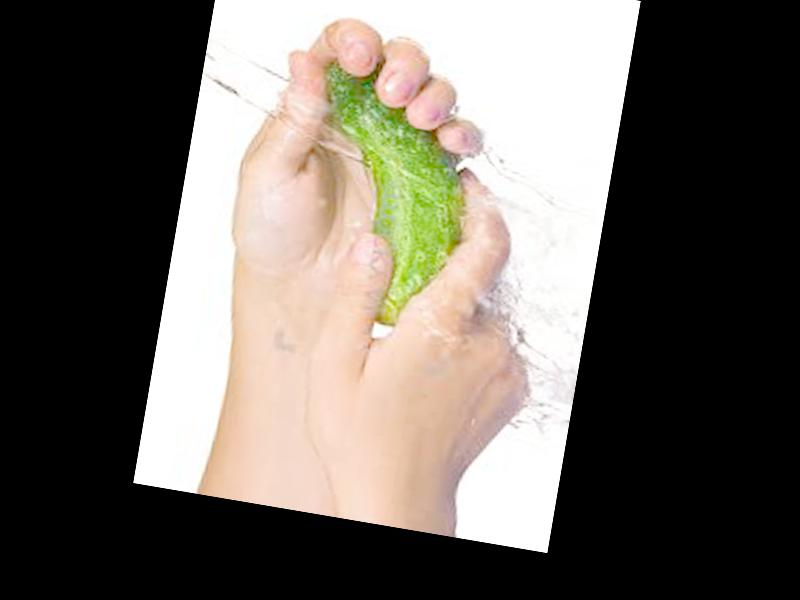Cucumber: (286, 60, 489, 338)
